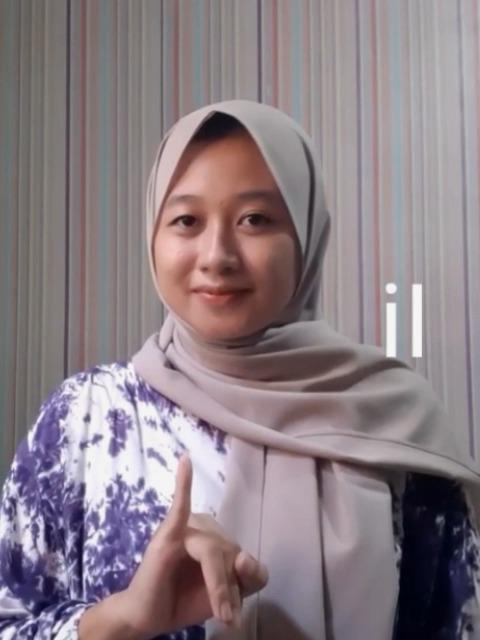I: (123, 458, 267, 634)
